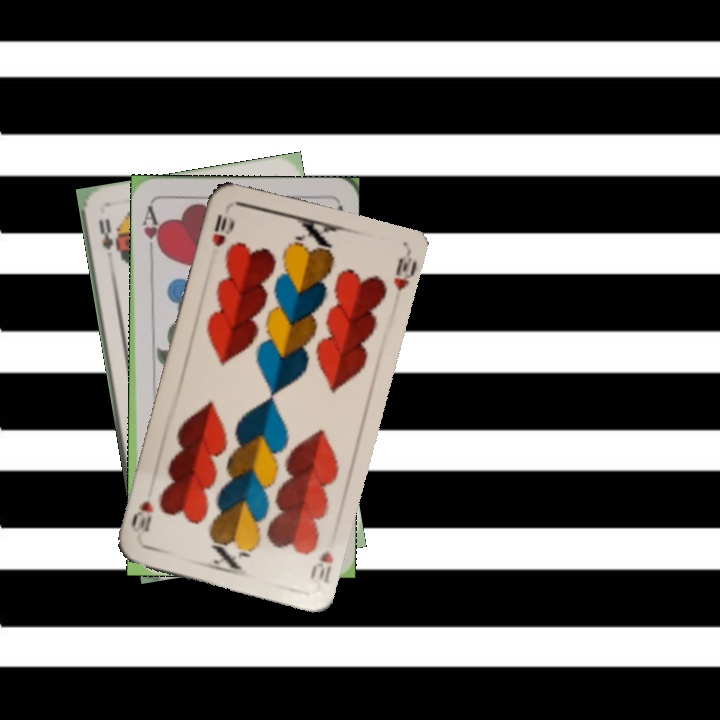H10: (306, 547, 336, 586), (207, 209, 235, 250)
HA: (138, 201, 164, 259)
SO: (94, 214, 120, 254)
